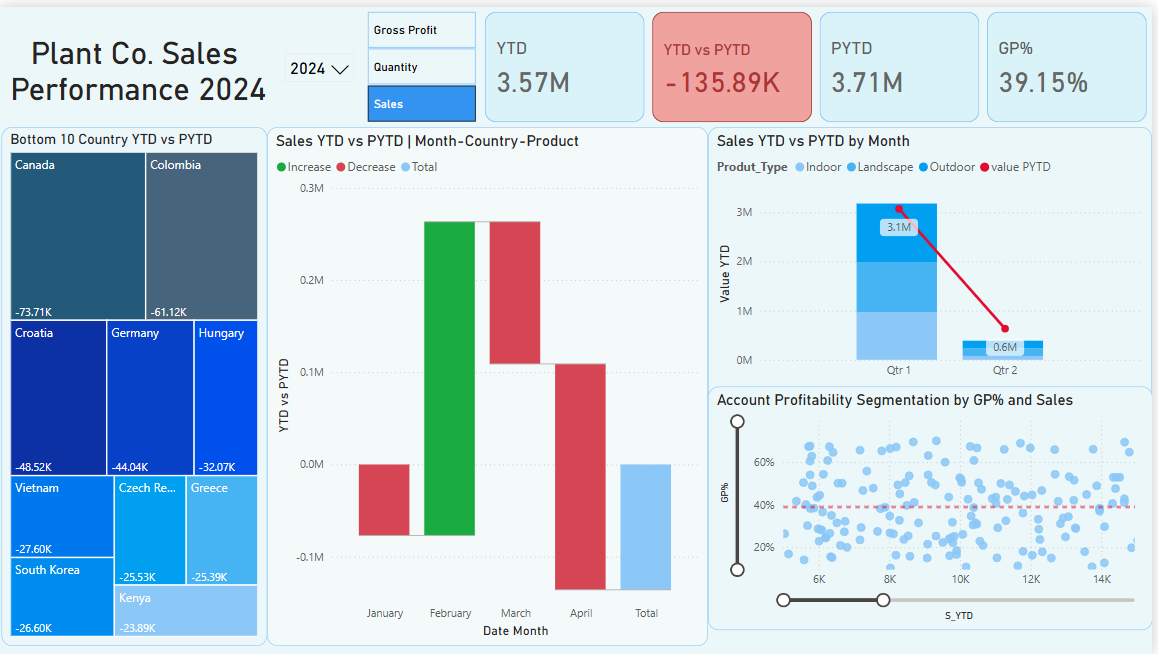

This screenshot's page, from the dashboard's own definition file:
{"tool":"powerbi","page":{"name":"Page 1","canvas":[1280,720],"ordinal":0},"visuals":[{"type":"cardVisual","fields":{"Data":["_Measure.S_YTD","_Measure.YTD vs PYTD","_Measure.S_PYTD","_Measure.GP%"]},"box":[533.3,0,746.7,133.3],"z":0},{"type":"advancedSlicerVisual","fields":{"Values":["slc_values.Values"]},"box":[403.3,0,130,133.3],"z":1000},{"type":"slicer","fields":{"Values":["Dim_Date.Date.Variation.Date Hierarchy.Year"]},"box":[306.7,41.7,96.7,41.7],"z":2000},{"type":"treemap","title":"Bottom 10 Country YTD vs PYTD ","fields":{"Group":["Dim_Account.country"],"Values":["_Measure.YTD vs PYTD"]},"box":[1.7,133.3,295,576.7],"z":3000},{"type":"waterfallChart","fields":{"Category":["Dim_Date.Date.Variation.Date Hierarchy.Month","Dim_Account.country","Dim_product.Produt_Type","Dim_product.Product_Name"],"Y":["_Measure.YTD vs PYTD"]},"box":[296.7,133.3,490,576.7],"z":4000},{"type":"lineStackedColumnComboChart","fields":{"Y":["_Measure.S_YTD"],"Y2":["_Measure.S_PYTD"],"Category":["Dim_Date.Date.Variation.Date Hierarchy.Quarter","Dim_Date.Date.Variation.Date Hierarchy.Month"],"Series":["Dim_product.Produt_Type"]},"box":[786.7,133.3,493.3,306.7],"z":5000},{"type":"scatterChart","fields":{"Category":["Dim_Account.Account_id"],"Y":["_Measure.GP%"],"X":["_Measure.S_YTD"]},"box":[786.4,421.1,494.2,270.7],"z":6000},{"type":"card","fields":{"Values":["_Measure._Report Title"]},"box":[0,0,306.7,133.3],"z":7000}]}

Visuals, with their boxes in screenshot pixels (x1, y1, x2, y2), scaled from the page's 1280x720 canvas onto the 1158x654 screenshot:
cardVisual - _Measure.S_YTD x _Measure.YTD vs PYTD: BBox(482, 0, 1157, 121)
advancedSlicerVisual - slc_values.Values: BBox(365, 0, 482, 121)
slicer - Dim_Date.Date.Variation.Date Hierarchy.Year: BBox(277, 38, 365, 76)
"Bottom 10 Country YTD vs PYTD " treemap: BBox(2, 121, 268, 645)
waterfallChart - Dim_Date.Date.Variation.Date Hierarchy.Month x Dim_Account.country: BBox(268, 121, 712, 645)
lineStackedColumnComboChart - _Measure.S_YTD x _Measure.S_PYTD: BBox(712, 121, 1157, 400)
scatterChart - Dim_Account.Account_id x _Measure.GP%: BBox(711, 382, 1157, 628)
card - _Measure._Report Title: BBox(0, 0, 277, 121)
